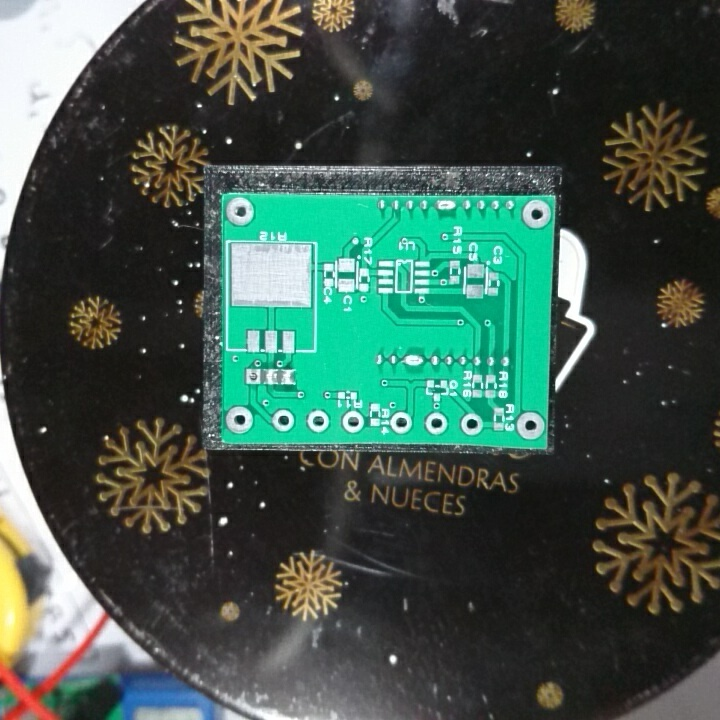F: (222, 195, 258, 229), (223, 403, 254, 438), (515, 409, 547, 442), (520, 199, 553, 229), (305, 406, 331, 437), (339, 408, 365, 437), (388, 410, 415, 436), (271, 406, 296, 434), (459, 410, 484, 436), (424, 412, 449, 437), (243, 366, 262, 388)
P: (402, 351, 424, 372), (435, 198, 456, 214)
